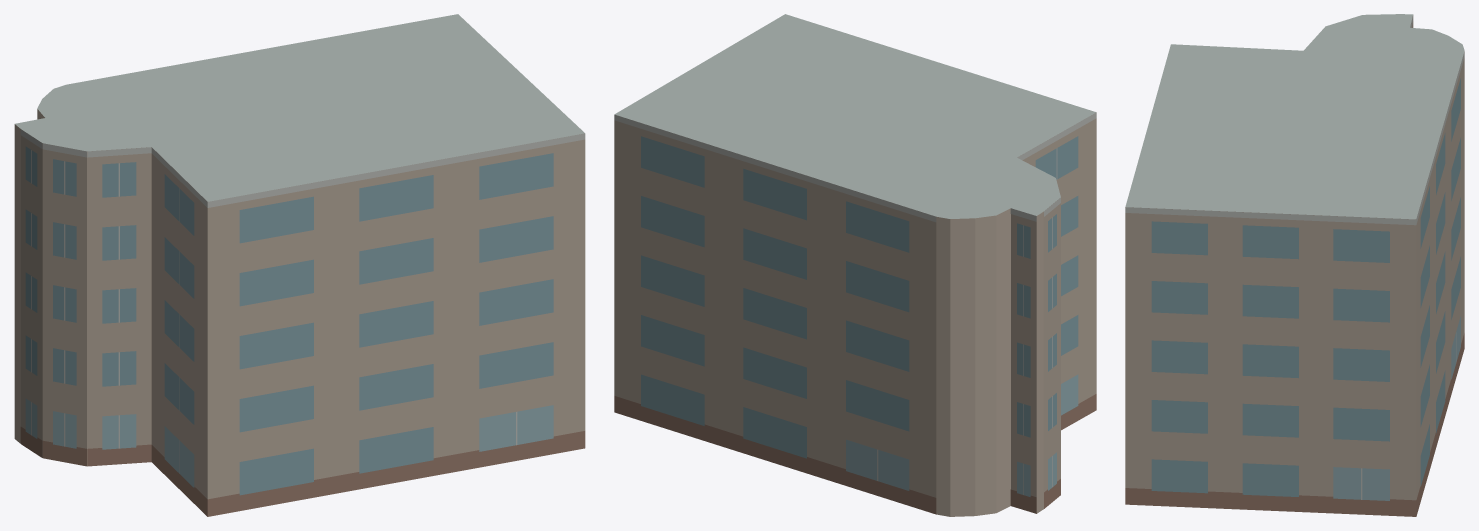
The model's file is survey-upis-32716255.glb.
The picture shows the model from 3 angles, left to right: view 1: azimuth 30°, elevation 25°; view 2: azimuth 150°, elevation 25°; view 3: azimuth 270°, elevation 25°; orthographic projection. The views are drawn at different scales.
Visible parts, largest first — view 1: survey-upis-32716255.tmp; view 2: survey-upis-32716255.tmp; view 3: survey-upis-32716255.tmp.
Part boxes in pixels (x1,y1,x2,y2): survey-upis-32716255.tmp: (14, 14, 585, 516); survey-upis-32716255.tmp: (614, 14, 1096, 516); survey-upis-32716255.tmp: (1125, 14, 1464, 516).
Size of the model in its own units: 18.52 by 12.5 by 12.94.
